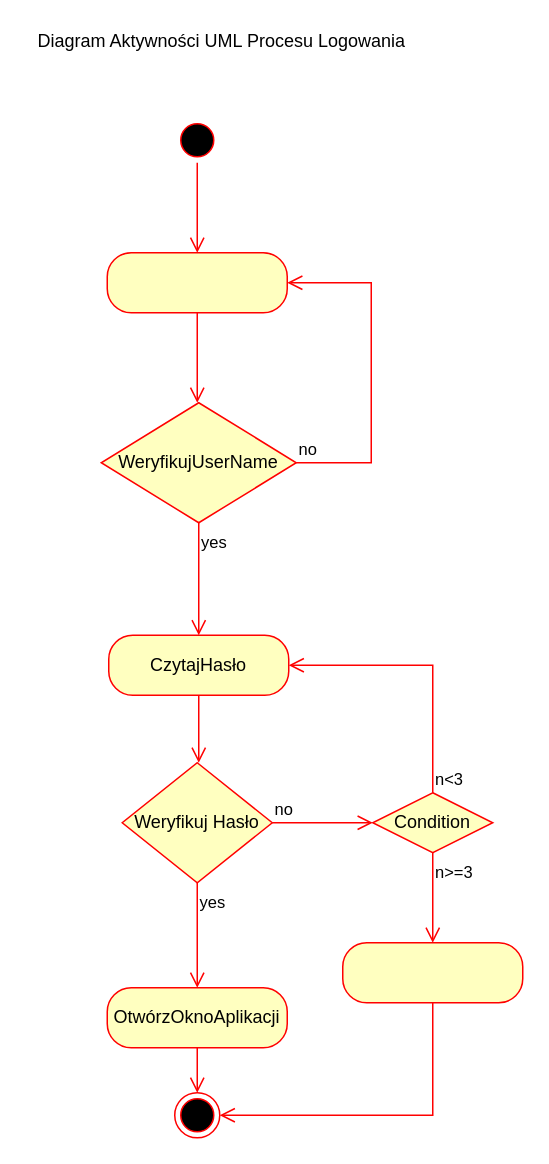
Image size: 549x1164. Some labels were removed from this diagram. The shapes that lost their labels are listed below. From the top down, each one's box as (x1, y1, x2, y2) in pixels, then its label:
(106, 251, 287, 313): CzytajUserName
(341, 941, 523, 1003): Zablokuj konto
